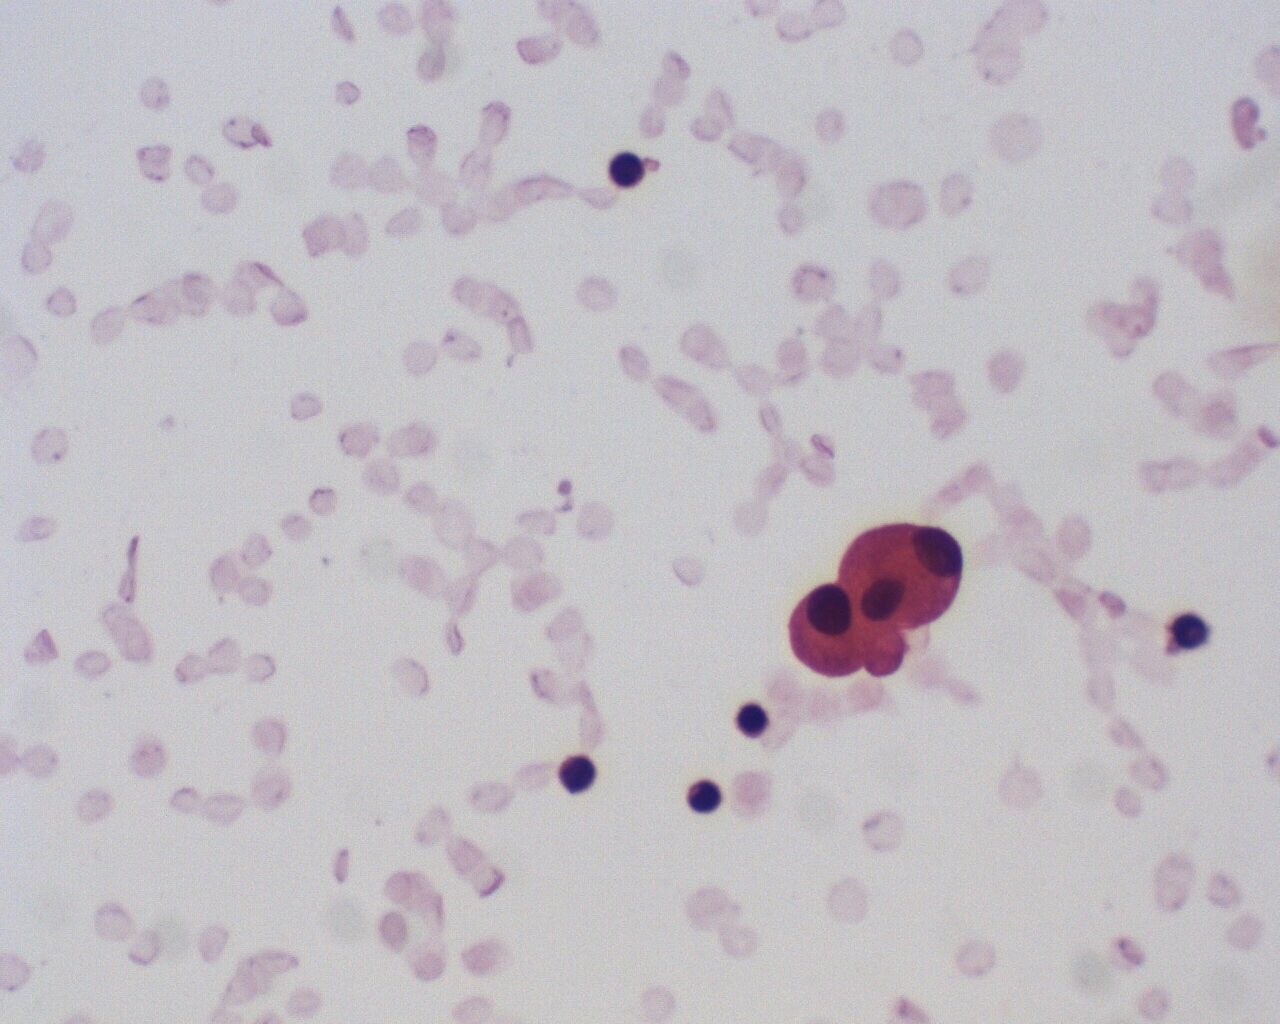histo: (836, 521, 965, 631)
lymph: (680, 774, 726, 818), (557, 750, 600, 797), (734, 697, 773, 747), (605, 147, 651, 190)
